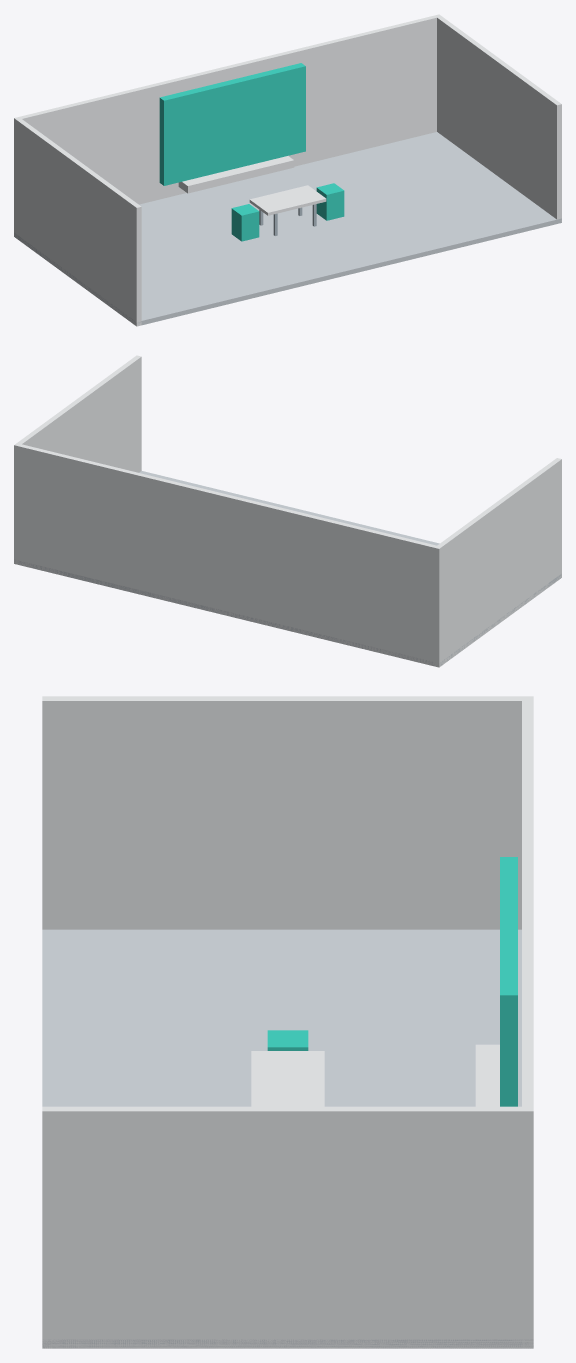
The picture shows the model from 3 angles, top to bottom: view 1: azimuth 30°, elevation 25°; view 2: azimuth 150°, elevation 25°; view 3: azimuth 270°, elevation 25°; orthographic projection. The views are drawn at different scales.
Parts seen in each view (by area): view 1: Exhibition Booth Concept; view 2: Exhibition Booth Concept; view 3: Exhibition Booth Concept.
Part boxes in pixels (<box>): Exhibition Booth Concept: <box>14,14,561,326</box>; Exhibition Booth Concept: <box>14,355,561,667</box>; Exhibition Booth Concept: <box>42,696,533,1348</box>.
Bounding box in the file's own units: 12 × 3.2 × 6.
